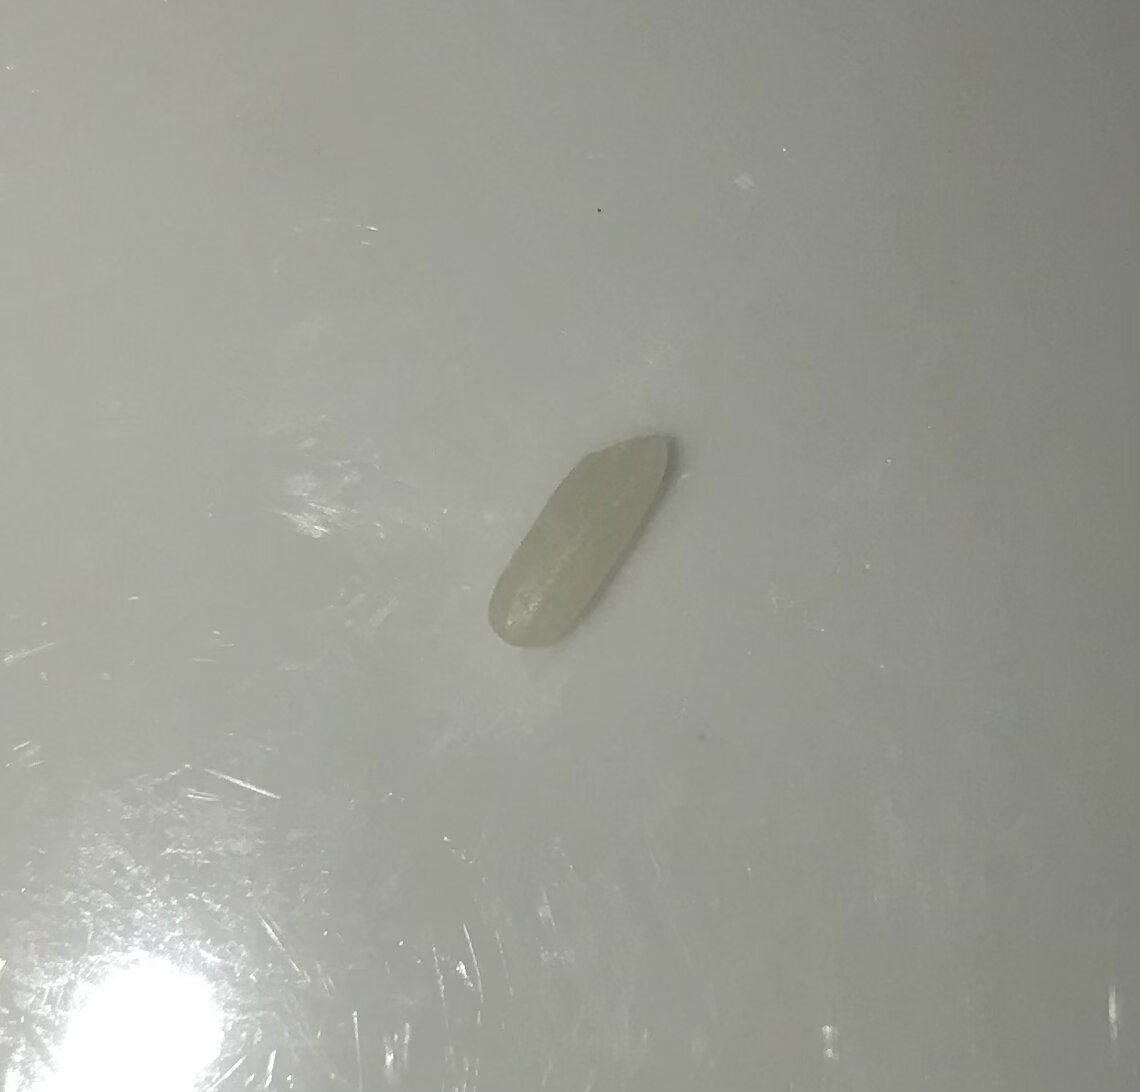Gao Lai Sua: (492, 426, 682, 655)
